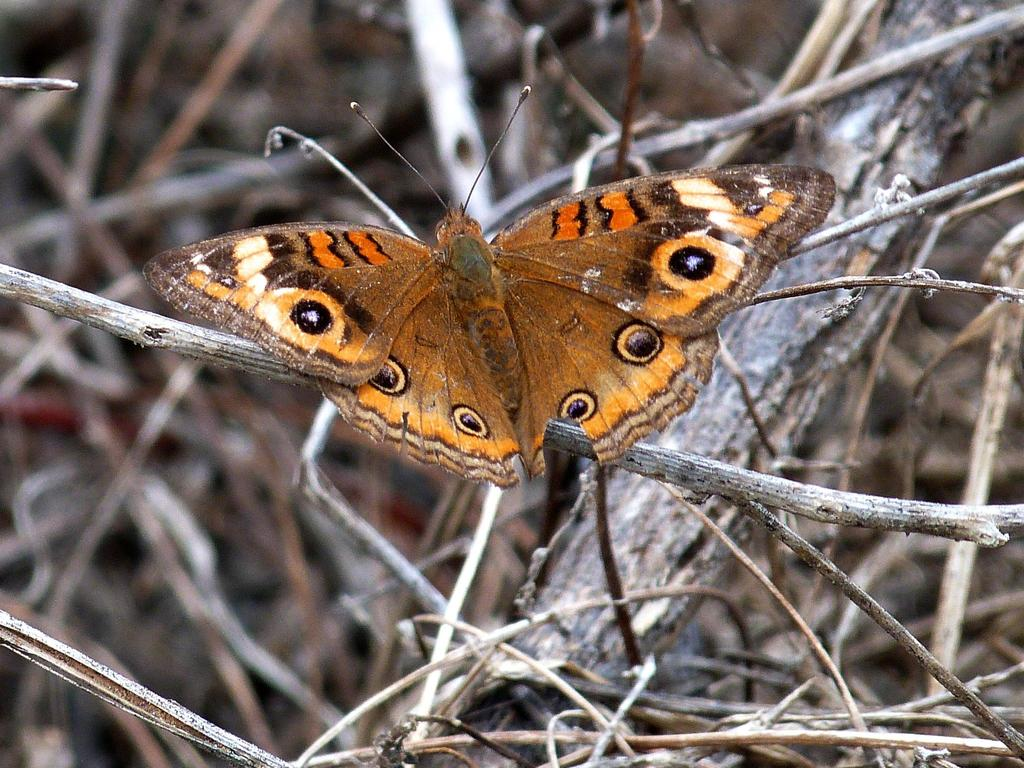Butterfly: (158, 124, 867, 515)
